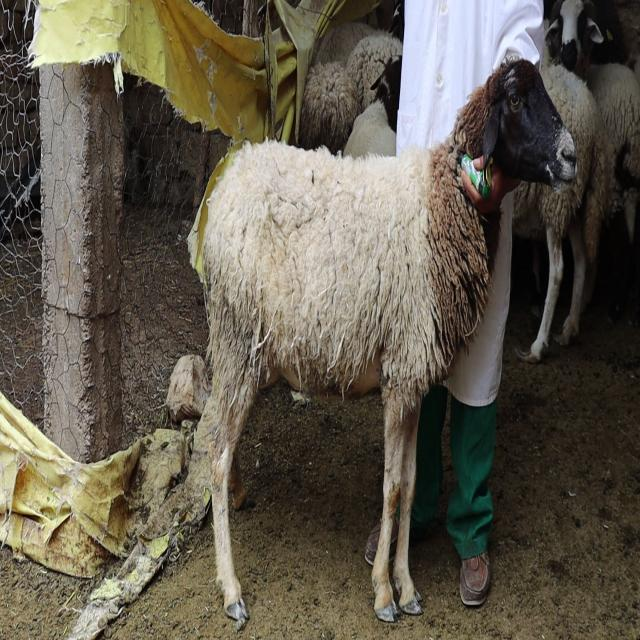Score_2: (197, 59, 576, 622)
